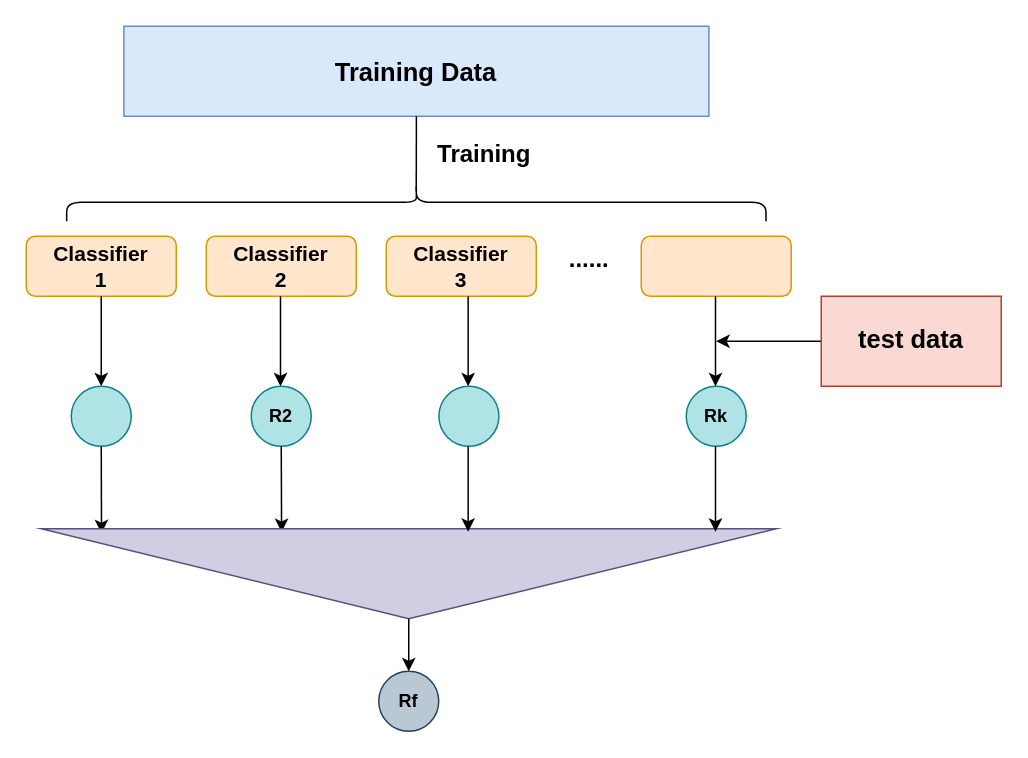
Image size: 1028x758. Some labels were removed from this diagram. Each missing label, with the centre of its shape:
Classifier k: the point at 715,265
Max: the point at 408,573
R1: the point at 100,415
R3: the point at 468,415
